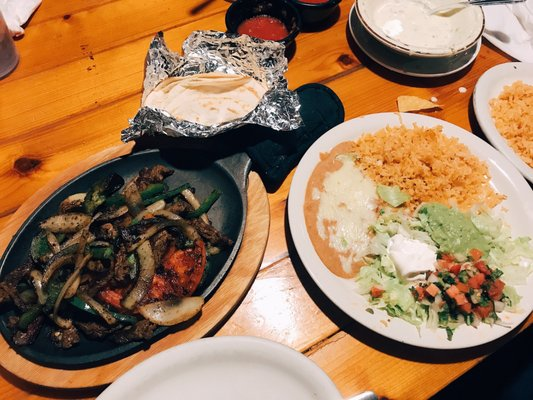sushi: (287, 105, 533, 356), (0, 157, 252, 375), (94, 335, 368, 400), (472, 60, 533, 192)
